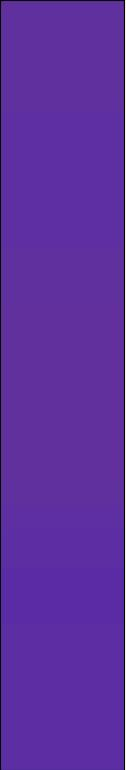safe: (10, 14, 114, 760)
